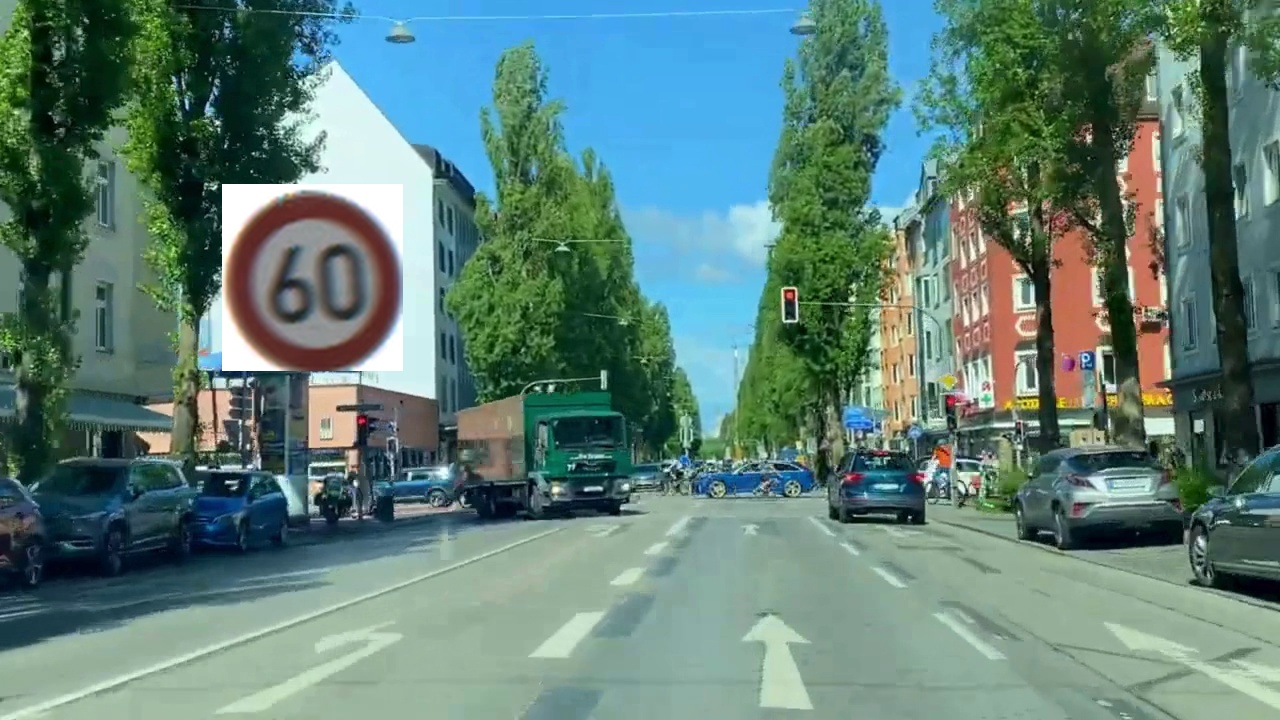Speed 60: (222, 184, 403, 371)
